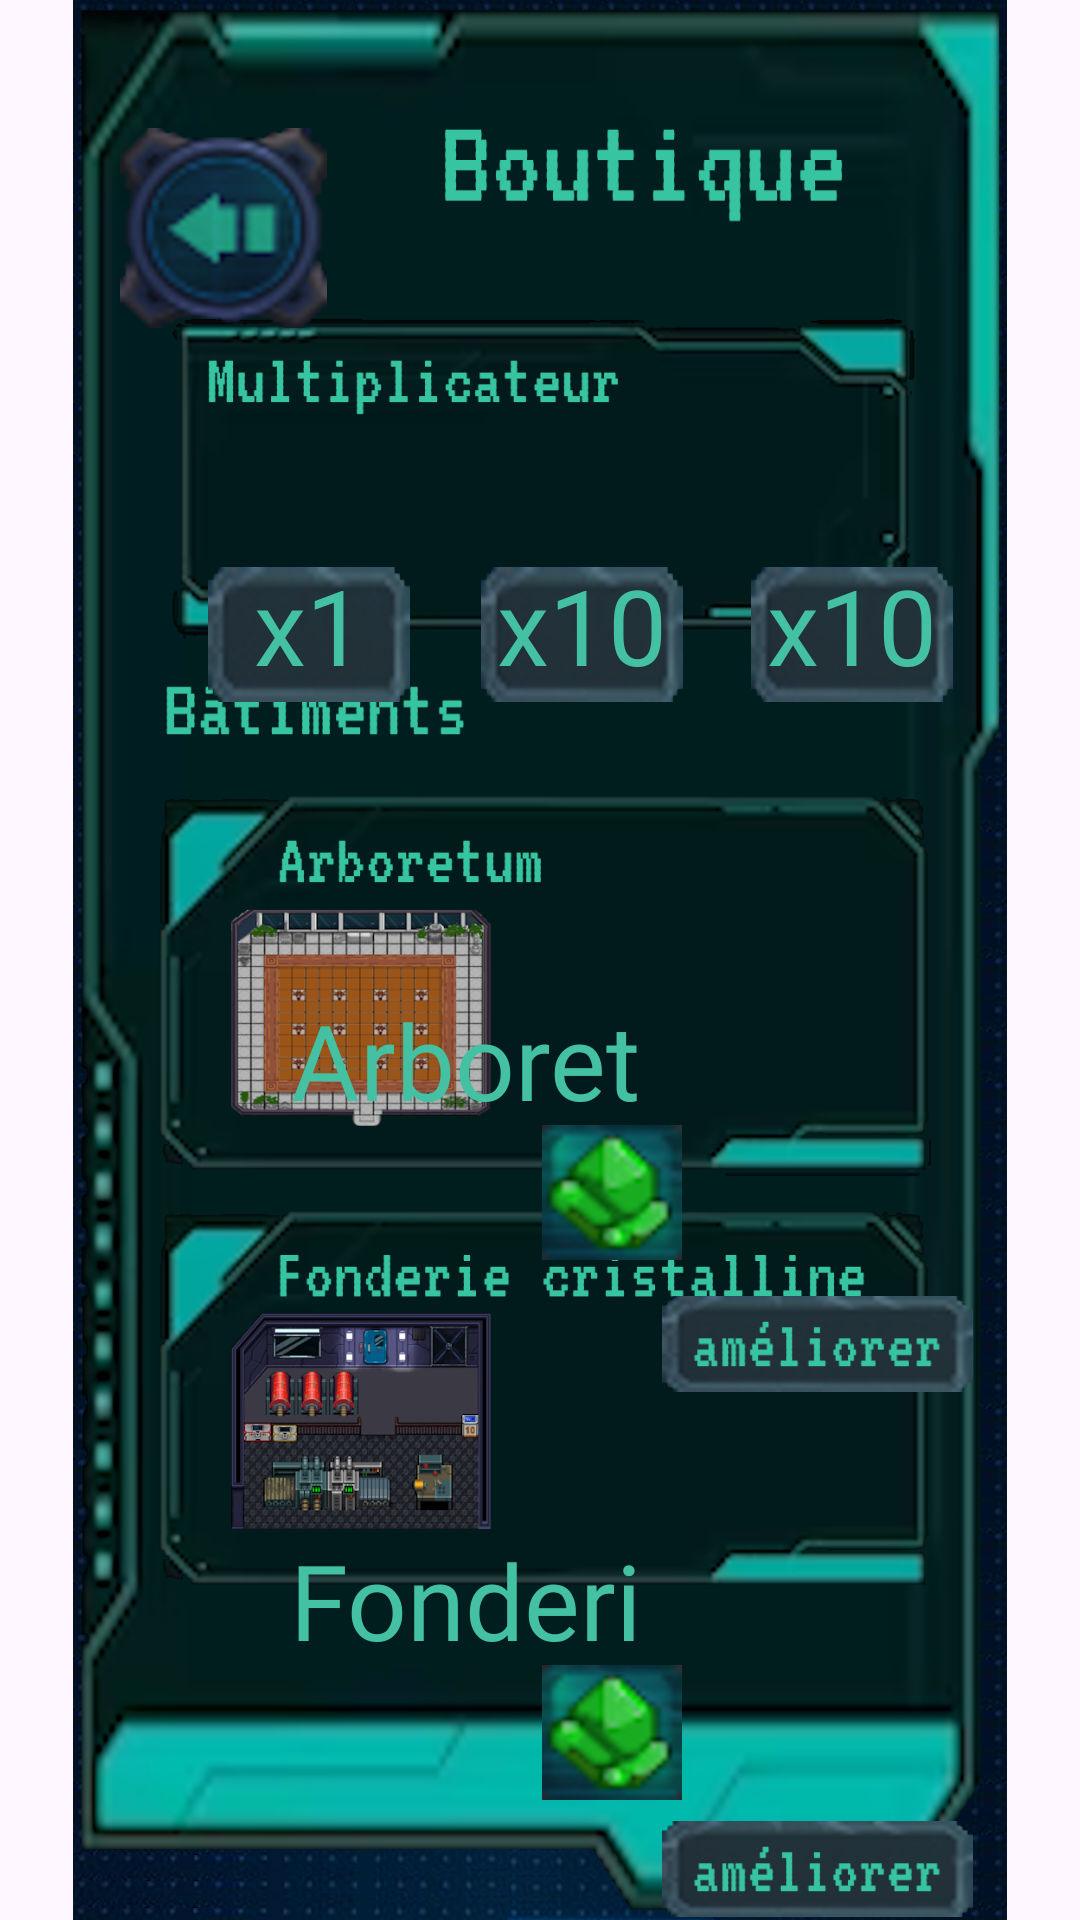

Where to tap for icons on this 1080x1920 app screen, as (x,y):
exit: (223,232)
